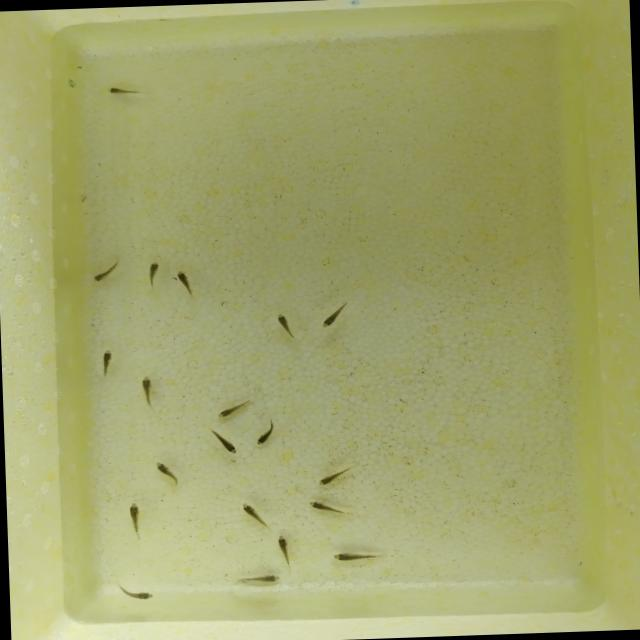fingerling: (314, 460, 364, 488), (306, 496, 358, 520), (317, 298, 354, 330), (123, 498, 149, 542), (205, 426, 241, 456), (134, 372, 161, 412), (111, 580, 160, 602), (249, 415, 282, 447), (85, 258, 124, 285), (228, 570, 283, 588), (270, 309, 300, 342), (238, 500, 270, 530), (153, 458, 185, 488), (330, 548, 388, 564), (272, 532, 294, 568), (102, 83, 154, 98), (172, 268, 196, 300), (95, 348, 118, 380), (142, 259, 165, 290), (212, 403, 246, 420)
